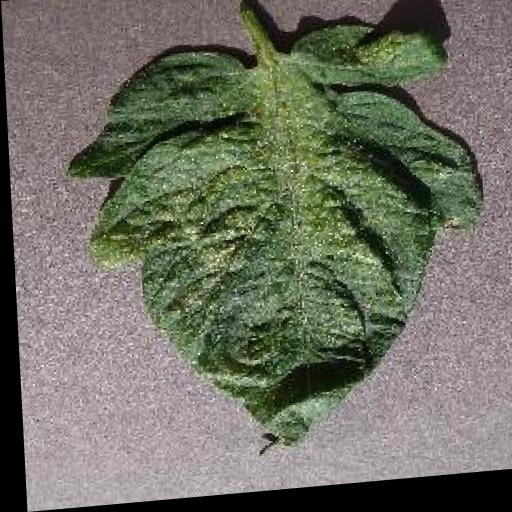Spider Mites: (60, 19, 489, 465)
